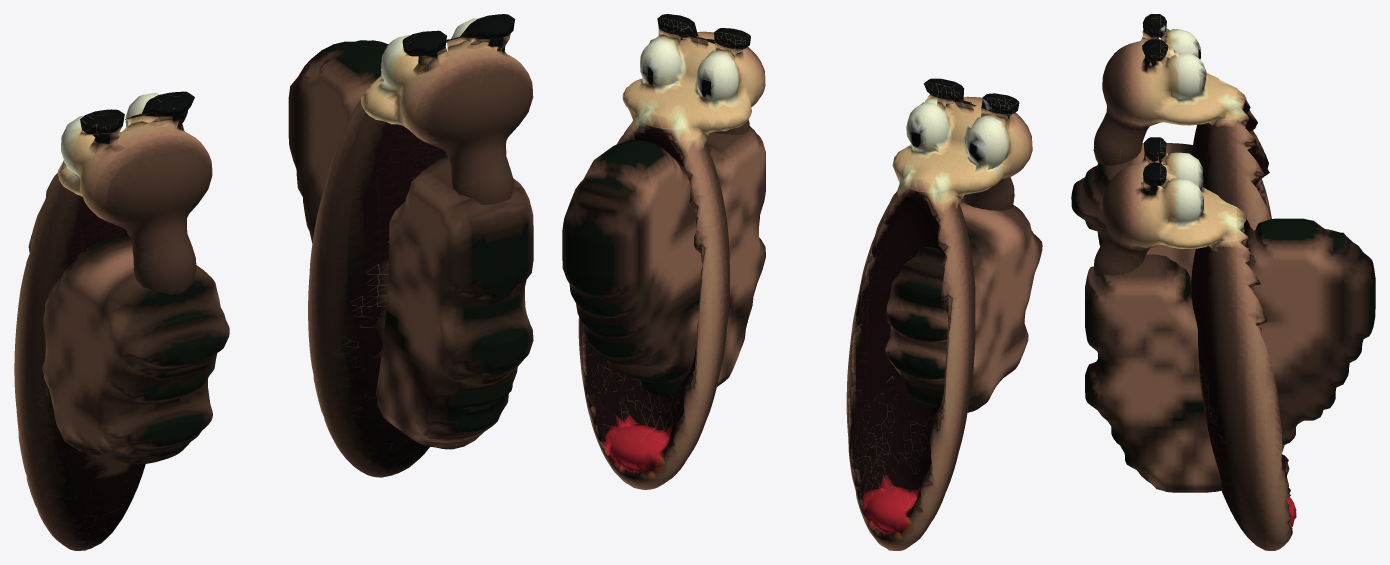
Rendered from brown-hero-morphs.glb.
3 renders of one model, left to right at view 1: azimuth 30°, elevation 25°; view 2: azimuth 150°, elevation 25°; view 3: azimuth 270°, elevation 25°, orthographic. The views are drawn at different scales.
Visible parts, largest first — view 1: BrownFearAfterCut, BrownBigBoot, BrownFearBeforeCut, BrownPowerFist; view 2: BrownFearBeforeCut, BrownBigBoot, BrownFearAfterCut, BrownPowerFist; view 3: BrownBigBoot, BrownFearAfterCut, BrownFearBeforeCut, BrownPowerFist.
Boxes of the visible parts, box(x1,y1,x2,y2) form: BrownFearAfterCut: box(308, 14, 533, 477); BrownBigBoot: box(288, 40, 533, 449); BrownFearBeforeCut: box(14, 91, 212, 550); BrownPowerFist: box(42, 236, 229, 464); BrownFearBeforeCut: box(846, 78, 1032, 550); BrownBigBoot: box(562, 126, 765, 397); BrownFearAfterCut: box(578, 14, 765, 489); BrownPowerFist: box(885, 199, 1042, 412); BrownBigBoot: box(1085, 218, 1375, 492); BrownFearAfterCut: box(1093, 137, 1296, 550); BrownFearBeforeCut: box(1093, 14, 1271, 230); BrownPowerFist: box(1071, 143, 1195, 284).
Size of the model in its own units: 1.64 by 1.69 by 1.18.
2 materials, 2 textured.
